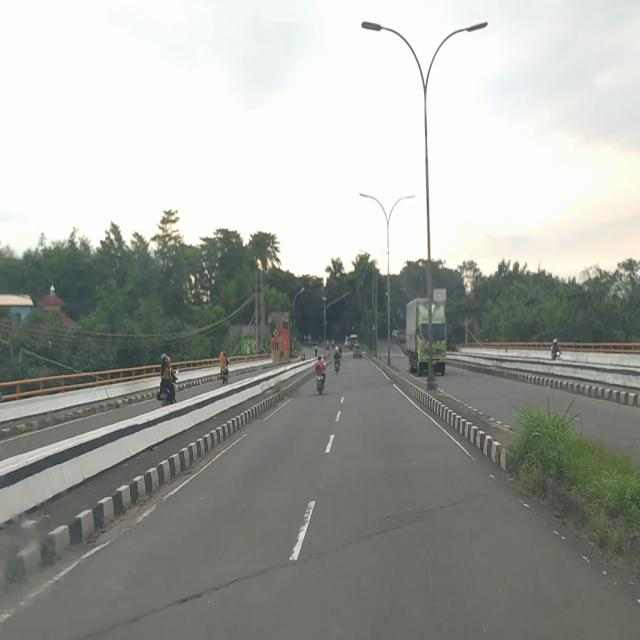Sewer Cover: (139, 480, 501, 622)
